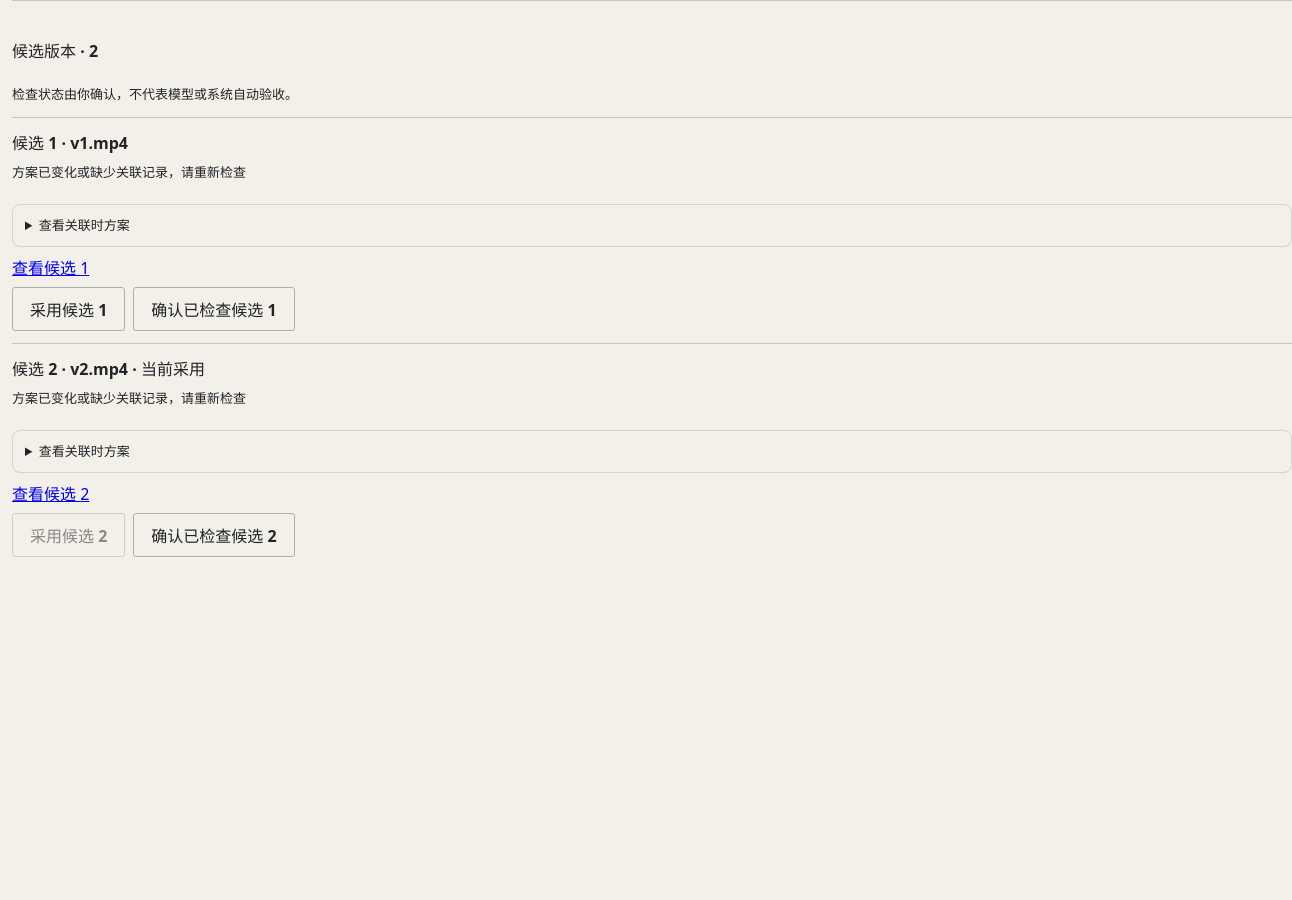
Test case: 候选展示关联时的方案，历史候选不伪造关联内容
Click the heading "查看关联时方案" below "v1.mp4".
click(84, 225)  # box [39,216,130,234]
(page scrolled)
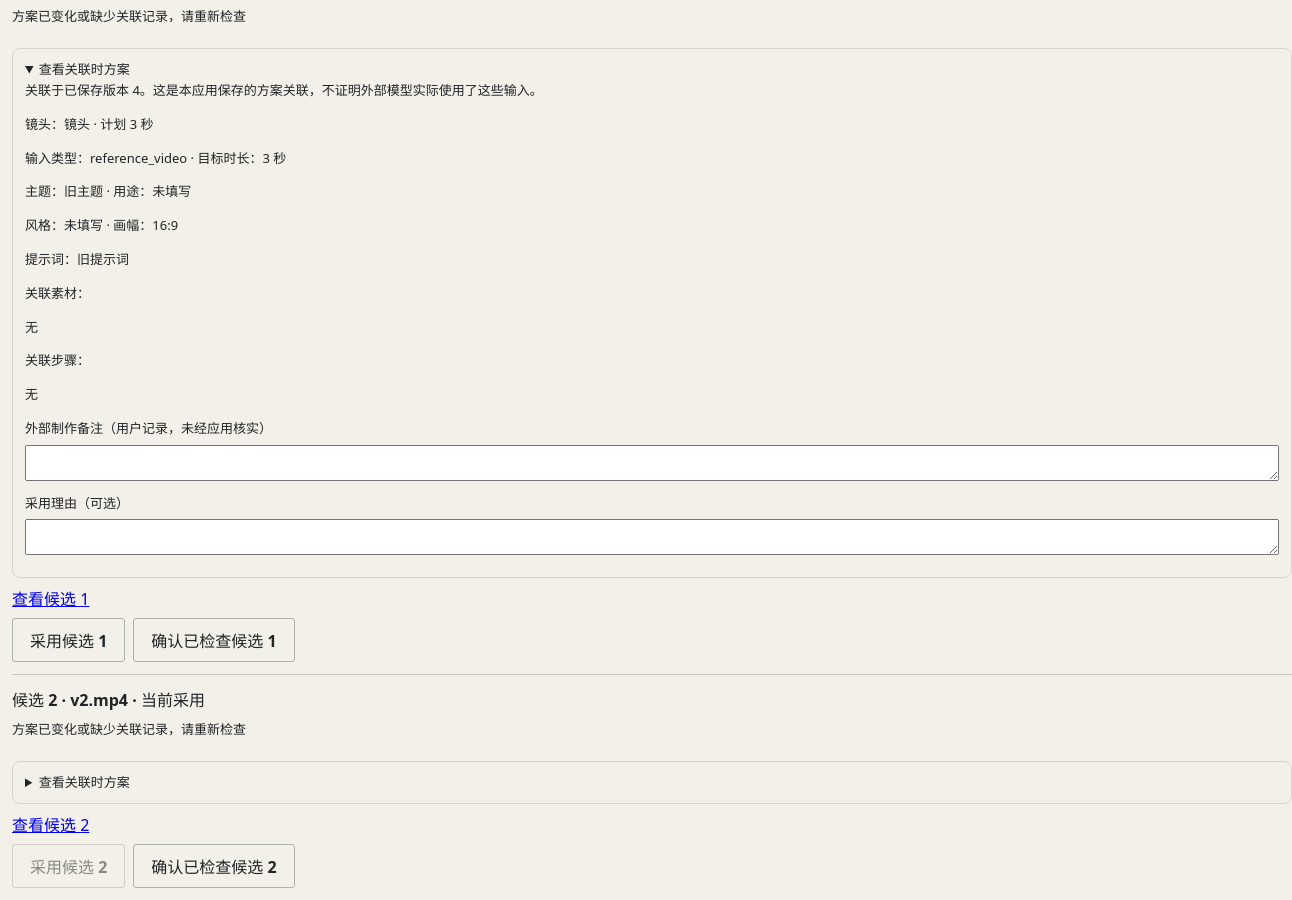
Click the heading "查看关联时方案" below "v2.mp4".
click(84, 782)  # box [39,773,130,791]
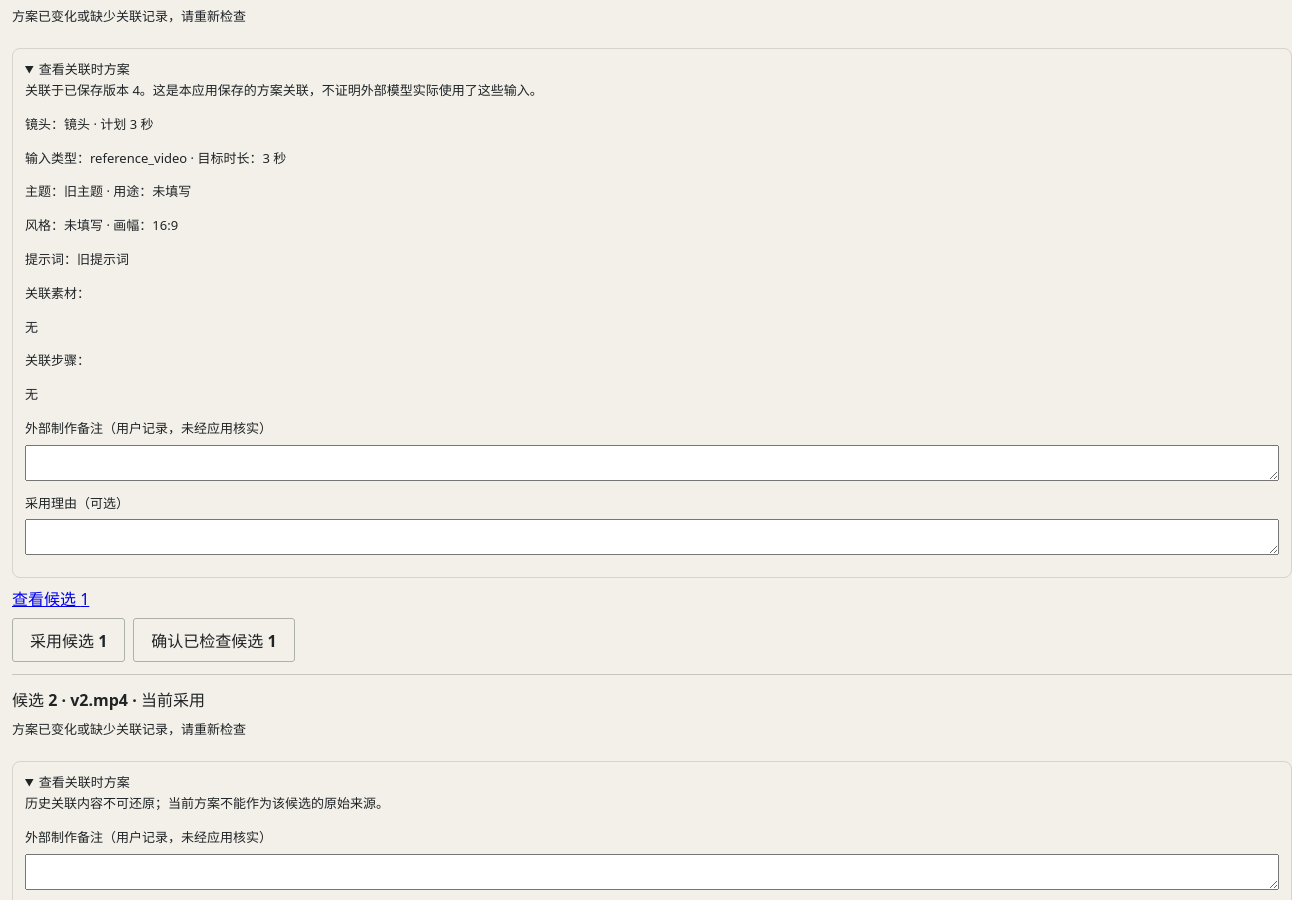
Expected: the text "提示词：旧提示词" is shown, [25,250,129,268]
Expected: the text "关联于已保存版本 4。这是本应用保存的方案关联，不证明外部模型实际使用了这些输入。" is shown, [25,81,543,99]
Expected: the text "历史关联内容不可还原；当前方案不能作为该候选的原始来源。" is shown, [25,794,389,812]
